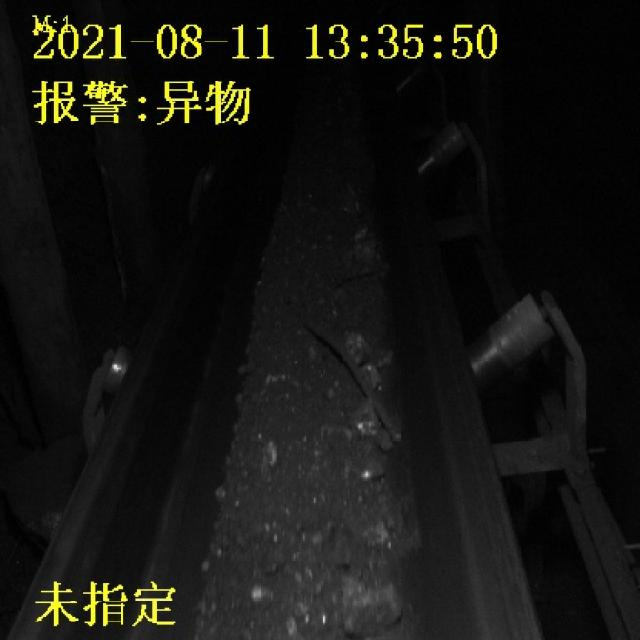bolt: (303, 312, 403, 448)
large_sized_coal: (336, 574, 402, 632), (344, 329, 388, 386)
